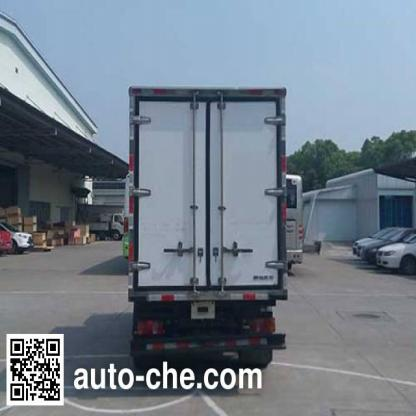normal-truck: (124, 76, 289, 348)
